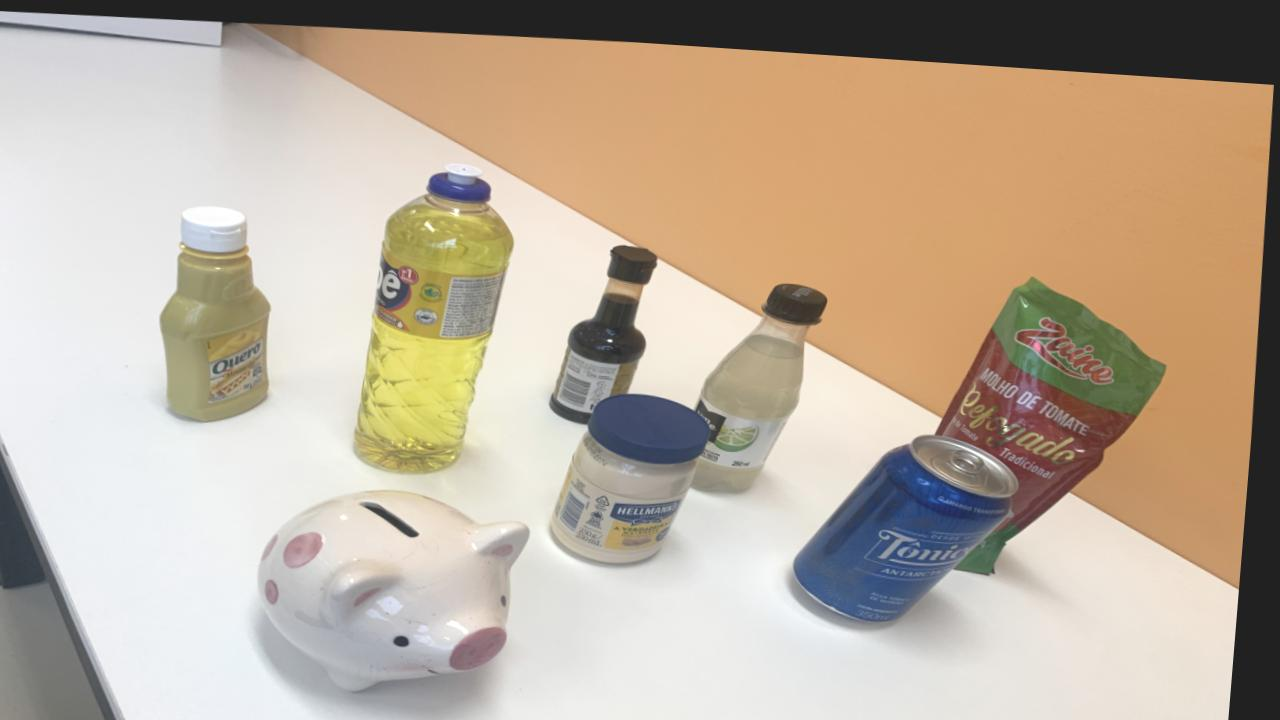Detergent-Cleanup_Items: (362, 157, 517, 466)
English_Sauce-Pantry_Items: (556, 236, 661, 415)
Mayonnaise-Pantry_Items: (559, 385, 716, 554)
Mustard-Pantry_Items: (164, 203, 275, 417)
Pig_Safe-Miscellaneous: (267, 484, 538, 686)
Soda-Drinks: (701, 273, 830, 481)
Tomato_Sauce-Pantry_Items: (944, 263, 1170, 559)
Tonic-Drinks: (802, 421, 1025, 610)
